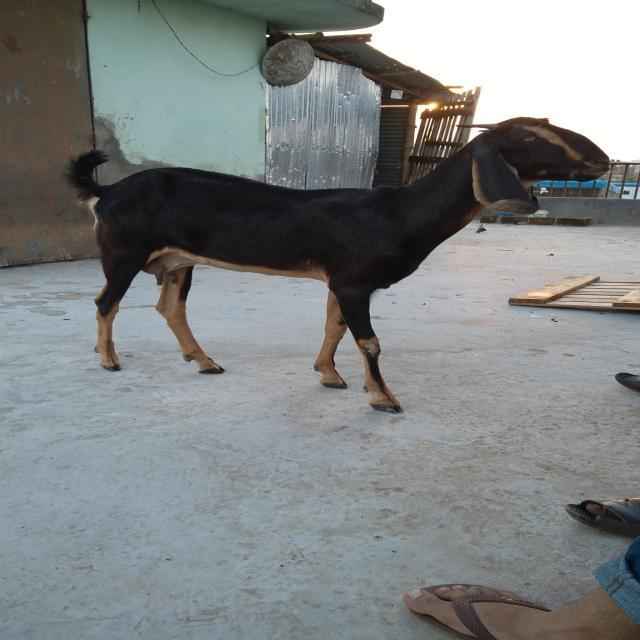Goat: (62, 115, 612, 414)
